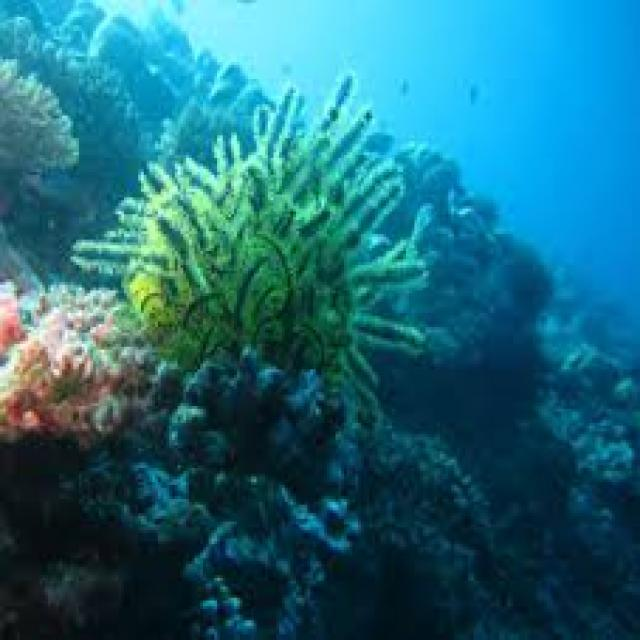Healthy: (74, 80, 424, 415), (162, 356, 362, 638), (1, 289, 150, 446), (1, 60, 77, 176)
